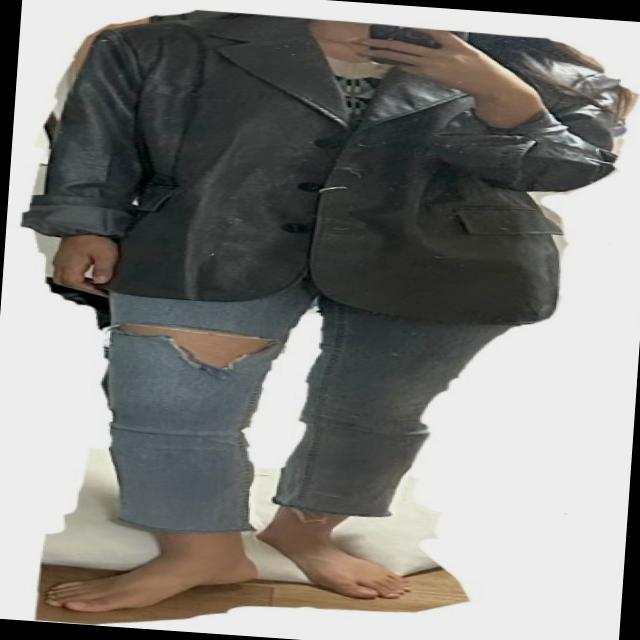blazer: (26, 0, 634, 331)
denimpants: (74, 248, 520, 554)
